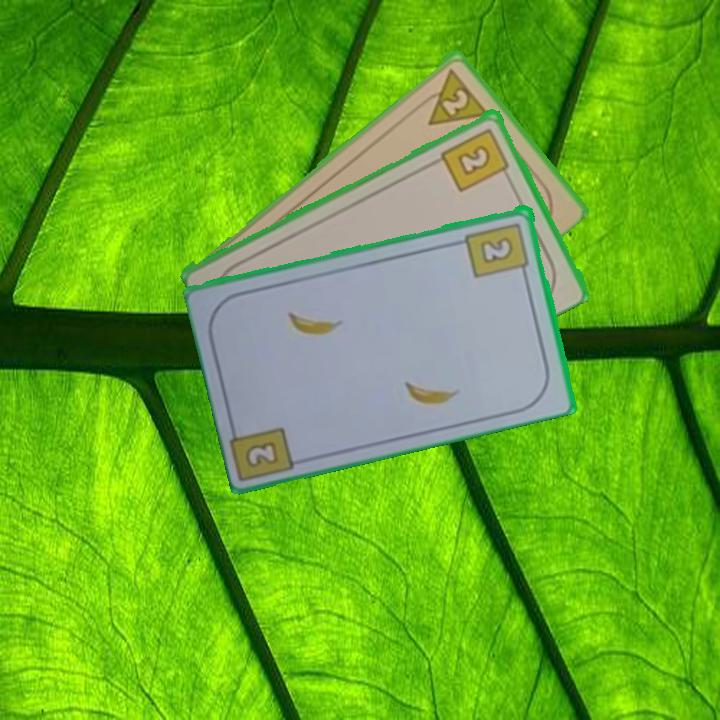2b: (438, 124, 513, 194), (462, 218, 532, 281), (241, 437, 282, 473)
2p: (413, 63, 490, 129)
